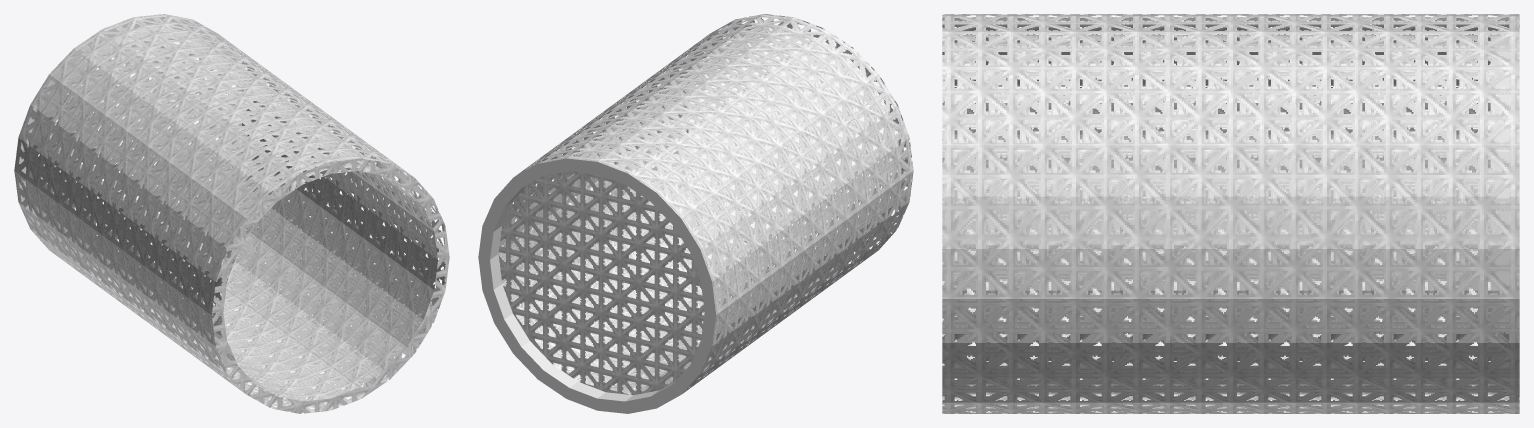
The model's file is model_align.obj.
3 renders of one model, left to right at view 1: azimuth 30°, elevation 25°; view 2: azimuth 150°, elevation 25°; view 3: azimuth 270°, elevation 25°, orthographic. The views are drawn at different scales.
Size of the model in its own units: 0.0809 by 0.0809 by 0.1163.
1 material, 1 textured.
